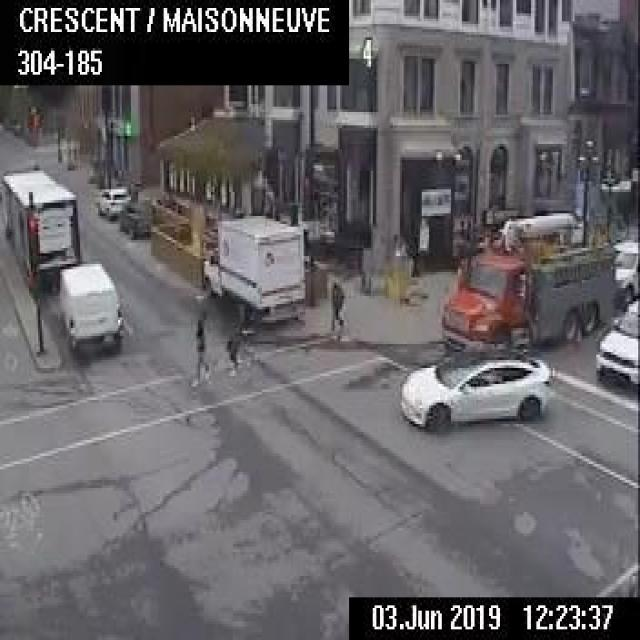pedestrian: (225, 316, 240, 371), (329, 279, 344, 327), (334, 294, 348, 342), (193, 314, 205, 370)
vehicle: (441, 209, 613, 351), (399, 345, 552, 431), (200, 211, 305, 323), (2, 166, 79, 293), (56, 259, 123, 353), (594, 297, 638, 392), (612, 238, 638, 309), (118, 201, 153, 237), (96, 185, 130, 218)
